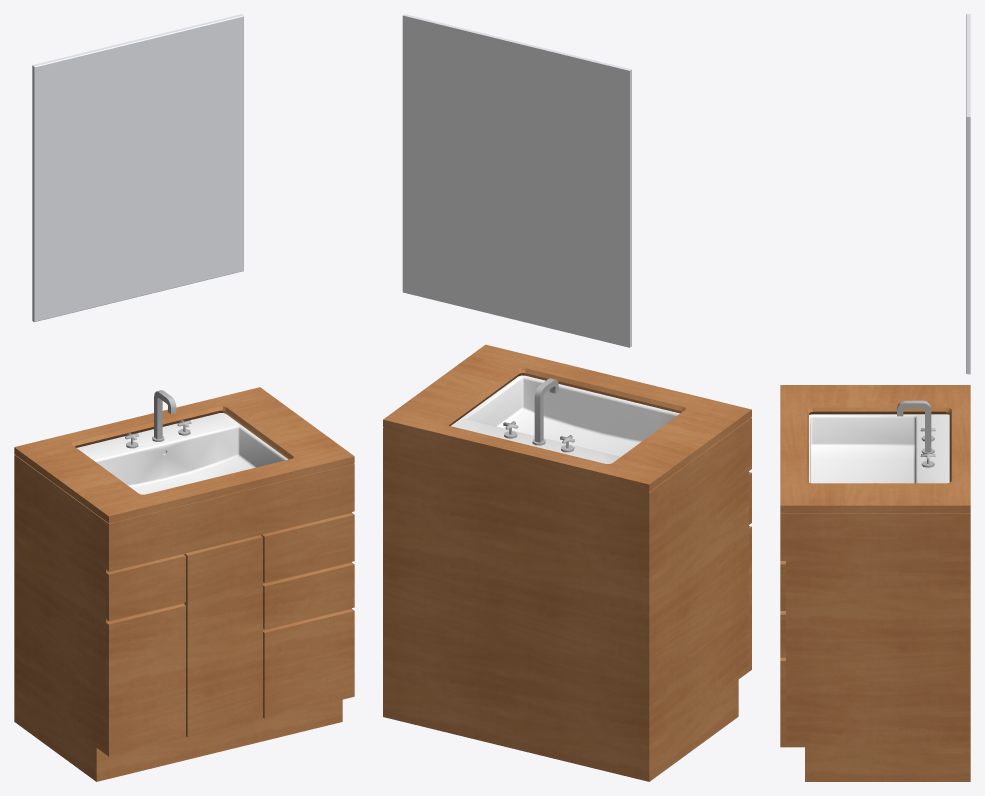
File: senmen.gltf
The picture shows the model from 3 angles, left to right: view 1: azimuth 30°, elevation 25°; view 2: azimuth 150°, elevation 25°; view 3: azimuth 270°, elevation 25°; orthographic projection. The views are drawn at different scales.
Parts seen in each view (by area): view 1: 8_primitive, 1_primitive, 9_primitive, 5_primitive, 3_primitive; view 2: 8_primitive, 2_primitive, 5_primitive, 1_primitive, 3_primitive; view 3: 8_primitive, 5_primitive, 1_primitive, 9_primitive, 4_primitive.
Part boxes in pixels (x1,y1,x2,y2): 8_primitive: (14,387,354,781); 1_primitive: (32,14,243,322); 9_primitive: (106,512,354,756); 5_primitive: (77,413,287,494); 3_primitive: (125,390,191,448); 8_primitive: (383,344,751,781); 2_primitive: (402,15,629,347); 5_primitive: (451,375,679,463); 1_primitive: (403,14,631,347); 3_primitive: (503,378,574,452); 8_primitive: (780,385,970,781); 5_primitive: (809,414,949,483); 1_primitive: (966,14,970,374); 9_primitive: (780,561,785,747); 4_primitive: (897,403,934,465).
Size of the model in its own units: 0.75 by 1.9 by 0.5.
Materials: 9 (2 with a texture image).
